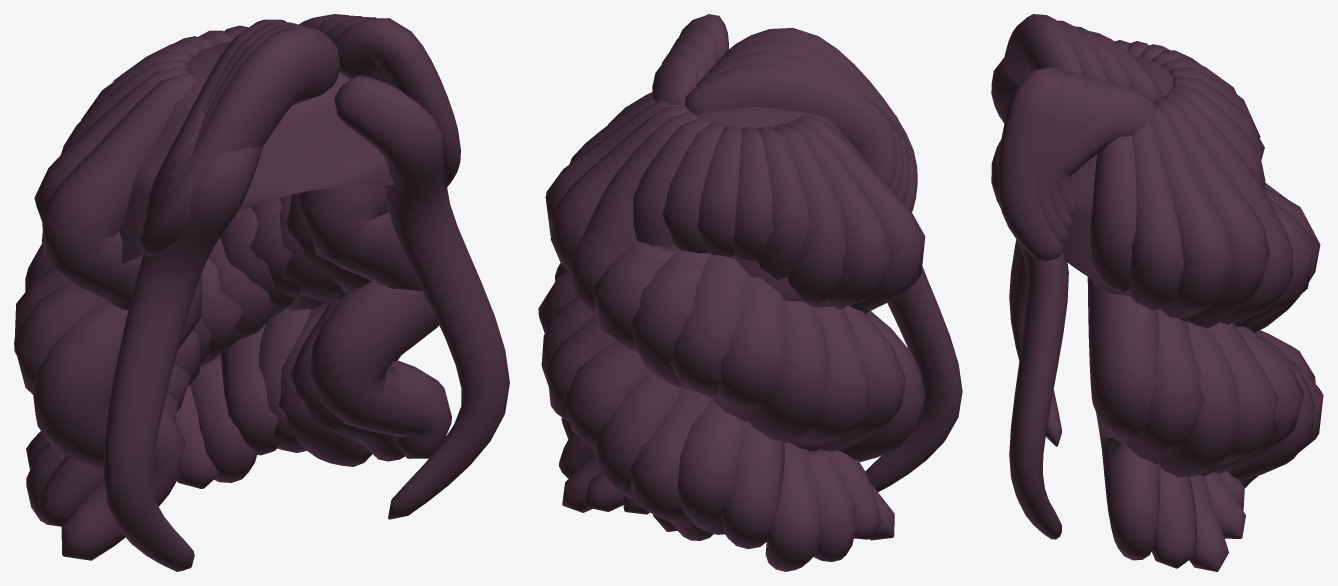
The model's file is studio_curly_long_long.glb.
3 views of the same model, side by side, from view 1: azimuth 30°, elevation 25°; view 2: azimuth 150°, elevation 25°; view 3: azimuth 270°, elevation 25° (orthographic). The views are drawn at different scales.
Visible parts, largest first — view 1: curly_long; view 2: curly_long; view 3: curly_long.
Boxes of the visible parts, x1,y1,x2,y2 form: curly_long: (14,14,509,571); curly_long: (538,14,962,571); curly_long: (991,14,1323,571).
Bounding box in the file's own units: 0.6755 × 0.8118 × 0.5065.
